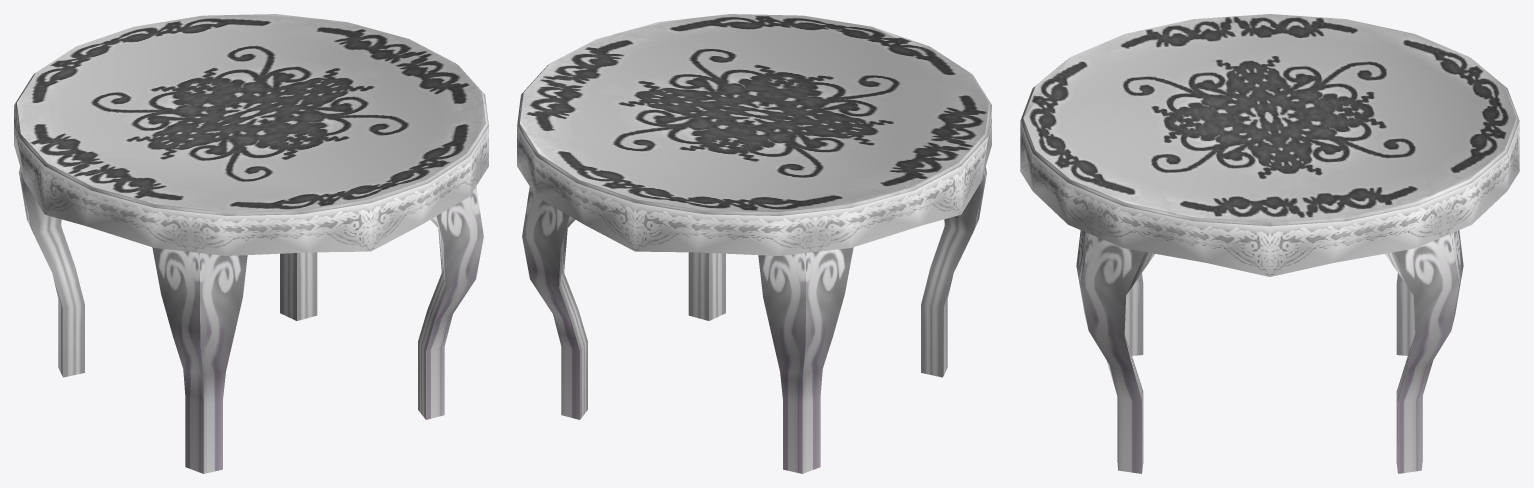
File: NienteRoundTable_HD.fbx
3 renders of one model, left to right at view 1: azimuth 30°, elevation 25°; view 2: azimuth 150°, elevation 25°; view 3: azimuth 270°, elevation 25°, orthographic. The views are drawn at different scales.
Visible parts, largest first — view 1: NienteRoundTable; view 2: NienteRoundTable; view 3: NienteRoundTable.
Boxes of the visible parts, x1,y1,x2,y2 form: NienteRoundTable: (14, 14, 488, 473); NienteRoundTable: (517, 14, 991, 473); NienteRoundTable: (1020, 14, 1519, 473).
Bounding box in the file's own units: 0.941 × 0.6049 × 0.941.
